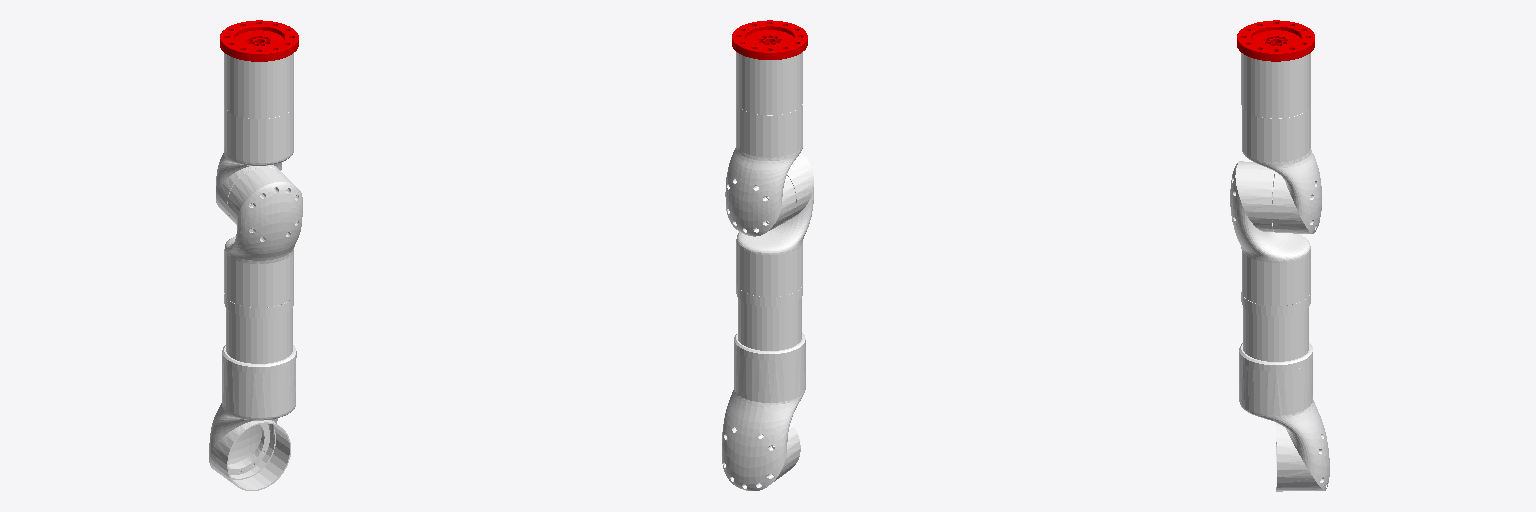
robot.urdf — armc_description:
<?xml version="1.0" encoding="utf-8"?>
<!-- This URDF was automatically created by SolidWorks to URDF Exporter! Originally created by [author] ([email redacted]) 
     Commit Version: 1.5.0-0-g9aa0fdb  Build Version: 1.5.7004.21443
     For more information, please see http://wiki.ros.org/sw_urdf_exporter -->
<robot
  name="armc_description">

<link name="world"/>
<joint name="fixed" type="fixed">
  <parent link="world"/>
  <child link="base_link"/>
</joint>
  <link
    name="base_link">
    <inertial>
      <origin
        xyz="2.7291E-05 6.0375E-05 0.070392"
        rpy="0 0 0" />
      <mass
        value="0.30535" />
      <inertia
        ixx="0.00091531"
        ixy="-2.4502E-07"
        ixz="2.9378E-07"
        iyy="0.00091481"
        iyz="8.1214E-07"
        izz="0.00047819" />
    </inertial>
    <visual>
      <origin
        xyz="0 0 0"
        rpy="0 0 0" />
      <geometry>
        <mesh
          filename="package://armc_description/meshes/base_link.STL" />
      </geometry>
      <material
        name="">
        <color
          rgba="1 1 1 1" />
      </material>
    </visual>
    <collision>
      <origin
        xyz="0 0 0"
        rpy="0 0 0" />
      <geometry>
        <mesh
          filename="package://armc_description/meshes/base_link.STL" />
      </geometry>
    </collision>
  </link>
  <link
    name="Link1">
    <inertial>
      <origin
        xyz="-9.6229E-07 -0.00081654 0.22221"
        rpy="0 0 0" />
      <mass
        value="0.29195" />
      <inertia
        ixx="0.00091458"
        ixy="1.0429E-07"
        ixz="-1.9214E-10"
        iyy="0.00078906"
        iyz="-3.0542E-06"
        izz="0.00046485" />
    </inertial>
    <visual>
      <origin
        xyz="0 0 0"
        rpy="0 0 0" />
      <geometry>
        <mesh
          filename="package://armc_description/meshes/Link1.STL" />
      </geometry>
      <material
        name="">
        <color
          rgba="1 1 1 1" />
      </material>
    </visual>
    <collision>
      <origin
        xyz="0 0 0"
        rpy="0 0 0" />
      <geometry>
        <mesh
          filename="package://armc_description/meshes/Link1.STL" />
      </geometry>
    </collision>
  </link>
  <joint
    name="joint1"
    type="continuous">
    <origin
      xyz="0 0 0"
      rpy="0 0 0" />
    <parent
      link="base_link" />
    <child
      link="Link1" />
    <axis
      xyz="0 0 1" />
    <limit
      lower="-3.14"
      upper="3.14"
      effort="60"
      velocity="20" />
  </joint>
  <link
    name="Link2">
    <inertial>
      <origin
        xyz="0.0014965 -0.10428 0.0093553"
        rpy="0 0 0" />
      <mass
        value="0.27082" />
      <inertia
        ixx="0.0013333"
        ixy="1.4113E-05"
        ixz="3.7731E-06"
        iyy="0.00038012"
        iyz="-0.00025532"
        izz="0.0012777" />
    </inertial>
    <visual>
      <origin
        xyz="0 0 0"
        rpy="0 0 0" />
      <geometry>
        <mesh
          filename="package://armc_description/meshes/Link2.STL" />
      </geometry>
      <material
        name="">
        <color
          rgba="1 1 1 1" />
      </material>
    </visual>
    <collision>
      <origin
        xyz="0 0 0"
        rpy="0 0 0" />
      <geometry>
        <mesh
          filename="package://armc_description/meshes/Link2.STL" />
      </geometry>
    </collision>
  </link>
  <joint
    name="joint2"
    type="revolute">
    <origin
      xyz="3.8503E-05 0 0.24812"
      rpy="-1.5708 0 0.0010635" />
    <parent
      link="Link1" />
    <child
      link="Link2" />
    <axis
      xyz="0 0 1" />
    <limit
      lower="-1.9"
      upper="1.9"
      effort="60"
      velocity="20" />
  </joint>
  <link
    name="Link3">
    <inertial>
      <origin
        xyz="9.915E-06 -0.002389 0.27731"
        rpy="0 0 0" />
      <mass
        value="0.2313" />
      <inertia
        ixx="0.00069611"
        ixy="2.3457E-07"
        ixz="-1.9566E-08"
        iyy="0.0006322"
        iyz="1.2171E-05"
        izz="0.00031231" />
    </inertial>
    <visual>
      <origin
        xyz="0 0 0"
        rpy="0 0 0" />
      <geometry>
        <mesh
          filename="package://armc_description/meshes/Link3.STL" />
      </geometry>
      <material
        name="">
        <color
          rgba="1 1 1 1" />
      </material>
    </visual>
    <collision>
      <origin
        xyz="0 0 0"
        rpy="0 0 0" />
      <geometry>
        <mesh
          filename="package://armc_description/meshes/Link3.STL" />
      </geometry>
    </collision>
  </link>
  <joint
    name="joint3"
    type="revolute">
    <origin
      xyz="-3.8503E-05 0.00011553 0"
      rpy="1.5708 0 0.01473" />
    <parent
      link="Link2" />
    <child
      link="Link3" />
    <axis
      xyz="0 0 1" />
    <limit
      lower="-3.14"
      upper="3.14"
      effort="40"
      velocity="20" />
  </joint>
  <link
    name="Link4">
    <inertial>
      <origin
        xyz="-0.0013744 -0.093336 0.0092998"
        rpy="0 0 0" />
      <mass
        value="0.20172" />
      <inertia
        ixx="0.00095508"
        ixy="-1.0307E-05"
        ixz="-2.5138E-06"
        iyy="0.00025405"
        iyz="-0.00017191"
        izz="0.0009263" />
    </inertial>
    <visual>
      <origin
        xyz="0 0 0"
        rpy="0 0 0" />
      <geometry>
        <mesh
          filename="package://armc_description/meshes/Link4.STL" />
      </geometry>
      <material
        name="">
        <color
          rgba="1 1 1 1" />
      </material>
    </visual>
    <collision>
      <origin
        xyz="0 0 0"
        rpy="0 0 0" />
      <geometry>
        <mesh
          filename="package://armc_description/meshes/Link4.STL" />
      </geometry>
    </collision>
  </link>
  <joint
    name="joint4"
    type="revolute">
    <origin
      xyz="0 0 0.305"
      rpy="-1.5708 0 0.0039406" />
    <parent
      link="Link3" />
    <child
      link="Link4" />
    <axis
      xyz="0 0 1" />
    <limit
      lower="-1.9"
      upper="1.9"
      effort="40"
      velocity="20" />
  </joint>
  <link
    name="Link5">
    <inertial>
      <origin
        xyz="-0.00035127 -0.0030192 0.26208"
        rpy="0 0 0" />
      <mass
        value="0.20121" />
      <inertia
        ixx="0.00066636"
        ixy="-4.914E-06"
        ixz="2.9088E-06"
        iyy="0.00062822"
        iyz="2.2513E-05"
        izz="0.00021695" />
    </inertial>
    <visual>
      <origin
        xyz="0 0 0"
        rpy="0 0 0" />
      <geometry>
        <mesh
          filename="package://armc_description/meshes/Link5.STL" />
      </geometry>
      <material
        name="">
        <color
          rgba="1 1 1 1" />
      </material>
    </visual>
    <collision>
      <origin
        xyz="0 0 0"
        rpy="0 0 0" />
      <geometry>
        <mesh
          filename="package://armc_description/meshes/Link5.STL" />
      </geometry>
    </collision>
  </link>
  <joint
    name="joint5"
    type="revolute">
    <origin
      xyz="0 0 0"
      rpy="1.5707 0 -0.01473" />
    <parent
      link="Link4" />
    <child
      link="Link5" />
    <axis
      xyz="0 0 1" />
    <limit
      lower="-3.14"
      upper="3.14"
      effort="15"
      velocity="30" />
  </joint>
  <link
    name="Link6">
    <inertial>
      <origin
        xyz="3.2079E-05 -0.097036 0.0070198"
        rpy="0 0 0" />
      <mass
        value="0.18667" />
      <inertia
        ixx="0.00082771"
        ixy="-2.5635E-07"
        ixz="2.8367E-08"
        iyy="0.00020369"
        iyz="-0.00012311"
        izz="0.00081164" />
    </inertial>
    <visual>
      <origin
        xyz="0 0 0"
        rpy="0 0 0" />
      <geometry>
        <mesh
          filename="package://armc_description/meshes/Link6.STL" />
      </geometry>
      <material
        name="">
        <color
          rgba="1 1 1 1" />
      </material>
    </visual>
    <collision>
      <origin
        xyz="0 0 0"
        rpy="0 0 0" />
      <geometry>
        <mesh
          filename="package://armc_description/meshes/Link6.STL" />
      </geometry>
    </collision>
  </link>
  <joint
    name="joint6"
    type="revolute">
    <origin
      xyz="0 -1.7766E-05 0.306"
      rpy="-1.5707 0 -0.12601" />
    <parent
      link="Link5" />
    <child
      link="Link6" />
    <axis
      xyz="0 0 1" />
    <limit
      lower="-1.9"
      upper="1.9"
      effort="15"
      velocity="30" />
  </joint>
  <link
    name="Link7">
    <inertial>
      <origin
        xyz="-0.00013278 6.7991E-05 0.18508"
        rpy="0 0 0" />
      <mass
        value="0.02843" />
      <inertia
        ixx="9.1165E-06"
        ixy="-4.442E-08"
        ixz="3.4836E-09"
        iyy="9.0525E-06"
        iyz="-1.7839E-09"
        izz="1.76E-05" />
    </inertial>
    <visual>
      <origin
        xyz="0 0 0"
        rpy="0 0 0" />
      <geometry>
        <mesh
          filename="package://armc_description/meshes/Link7.STL" />
      </geometry>
      <material
        name="">
        <color
          rgba="1 0 0 1" />
      </material>
    </visual>
    <collision>
      <origin
        xyz="0 0 0"
        rpy="0 0 0" />
      <geometry>
        <mesh
          filename="package://armc_description/meshes/Link7.STL" />
      </geometry>
    </collision>
  </link>
  <joint
    name="joint7"
    type="revolute">
    <origin
      xyz="0 0 0"
      rpy="1.5708 0 0" />
    <parent
      link="Link6" />
    <child
      link="Link7" />
    <axis
      xyz="0 0 1" />
    <limit
      lower="-3.14"
      upper="3.14"
      effort="15"
      velocity="30" />
  </joint>
</robot>

--- Render facts (derived) ---
3 views of the same robot in one strip: view 1: azimuth 30°, elevation 25°; view 2: azimuth 150°, elevation 25°; view 3: azimuth 270°, elevation 25° (orthographic).
Model armc_description with 9 links and 8 joints (6 revolute, 1 continuous, 1 fixed), rooted at world, posed every joint at zero.
Visible links, largest first — view 1: Link4, Link5, Link6, Link7; view 2: Link4, Link6, Link5, Link7; view 3: Link4, Link6, Link5, Link7.
Boxes of the visible links, <box> form: Link4: <box>209,308,296,490</box>; Link5: <box>224,167,302,317</box>; Link6: <box>216,53,293,229</box>; Link7: <box>220,20,298,61</box>; Link4: <box>722,298,805,490</box>; Link6: <box>725,52,802,236</box>; Link5: <box>736,153,813,306</box>; Link7: <box>732,20,807,59</box>; Link4: <box>1239,307,1329,491</box>; Link6: <box>1241,53,1321,233</box>; Link5: <box>1230,161,1310,316</box>; Link7: <box>1237,20,1314,61</box>.
Size in the robot's own frame: 0.085 by 0.1079 by 0.538 metres.
Meshes: 8 distinct files referenced, 4 mesh visuals loaded (4 binary STL); not drawn: 4 (reference not matched to a file when rendering).